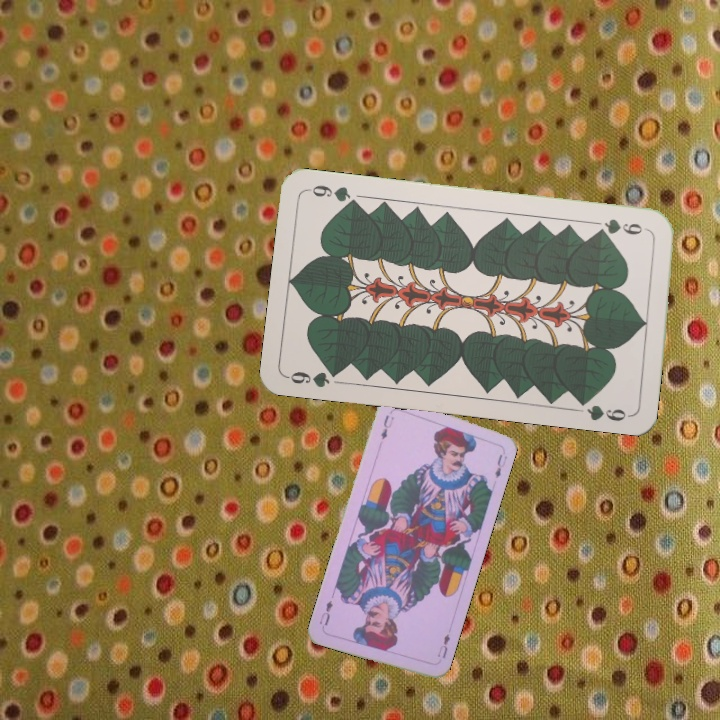EU: (433, 629, 453, 661), (377, 411, 396, 442)
G9: (284, 365, 344, 390), (592, 214, 652, 238)
